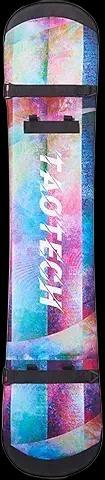Snowboard: (0, 4, 105, 480)
